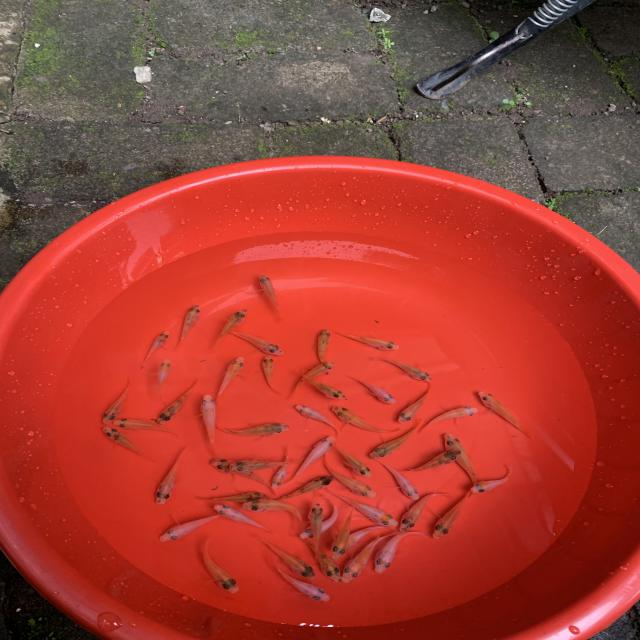nila: (192, 539, 251, 602), (264, 559, 342, 606), (314, 446, 380, 499), (338, 528, 397, 586), (250, 532, 320, 580), (360, 413, 426, 461), (428, 488, 486, 540), (473, 390, 534, 437), (284, 432, 335, 488), (394, 486, 452, 534), (442, 432, 490, 489), (205, 455, 279, 491), (206, 500, 284, 534), (325, 321, 405, 354), (329, 401, 408, 434), (287, 366, 353, 404), (97, 423, 160, 462), (394, 376, 443, 425), (151, 376, 197, 428), (153, 447, 192, 508), (374, 528, 421, 578), (389, 445, 464, 476), (168, 298, 206, 358), (150, 514, 226, 544), (323, 435, 373, 480), (368, 352, 438, 384), (289, 400, 349, 437), (301, 533, 346, 582), (208, 303, 251, 353), (288, 357, 339, 399), (193, 389, 224, 457), (338, 371, 398, 406), (236, 492, 306, 522), (273, 474, 337, 506), (466, 461, 518, 500), (298, 498, 346, 540), (373, 458, 419, 501), (98, 378, 135, 430), (213, 353, 250, 405), (224, 325, 285, 356), (210, 419, 290, 442), (420, 403, 478, 433), (136, 328, 171, 376), (191, 486, 276, 505), (113, 417, 176, 441), (332, 506, 360, 560), (264, 442, 296, 489), (228, 455, 302, 475), (255, 270, 287, 316), (341, 520, 392, 548), (306, 501, 328, 557), (312, 321, 336, 371), (258, 352, 284, 395), (153, 352, 176, 398)
